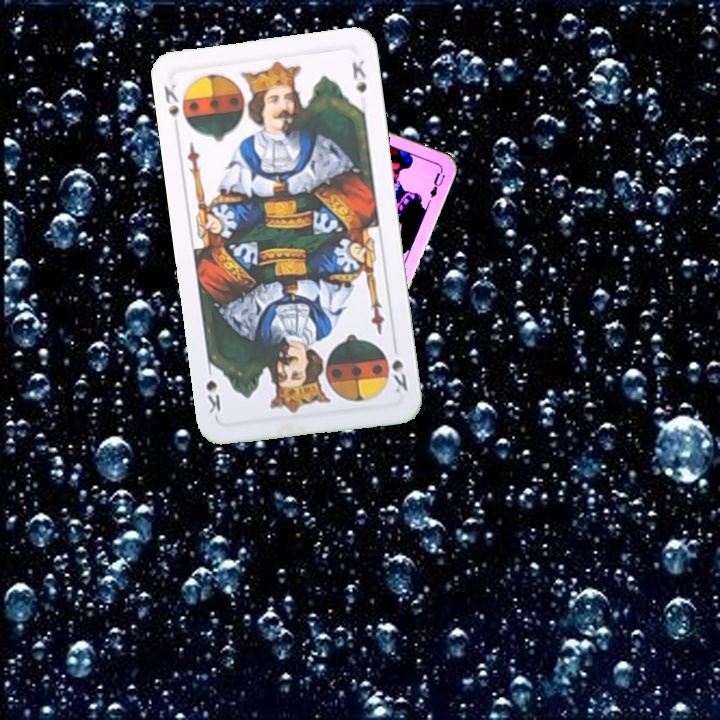SK: (381, 338, 410, 396), (159, 79, 182, 120)
